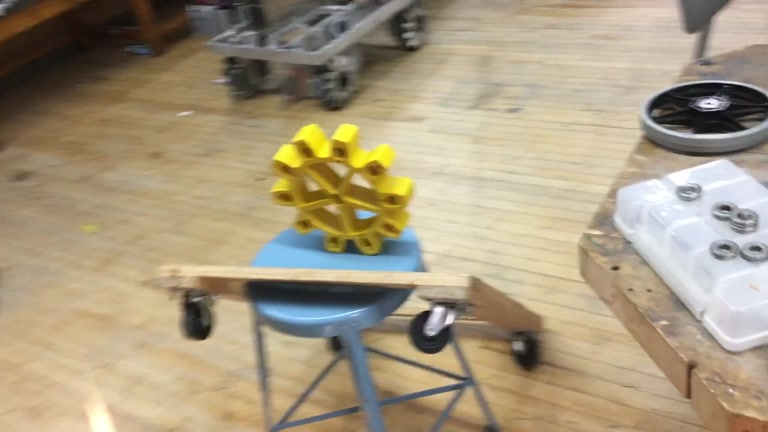gear: (270, 122, 416, 255)
